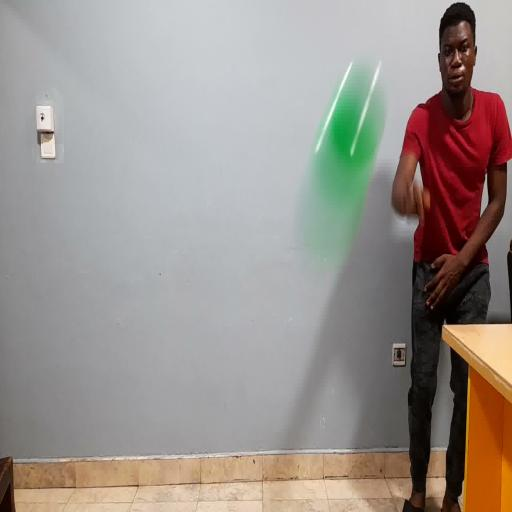plastic-ball: (291, 59, 387, 267)
